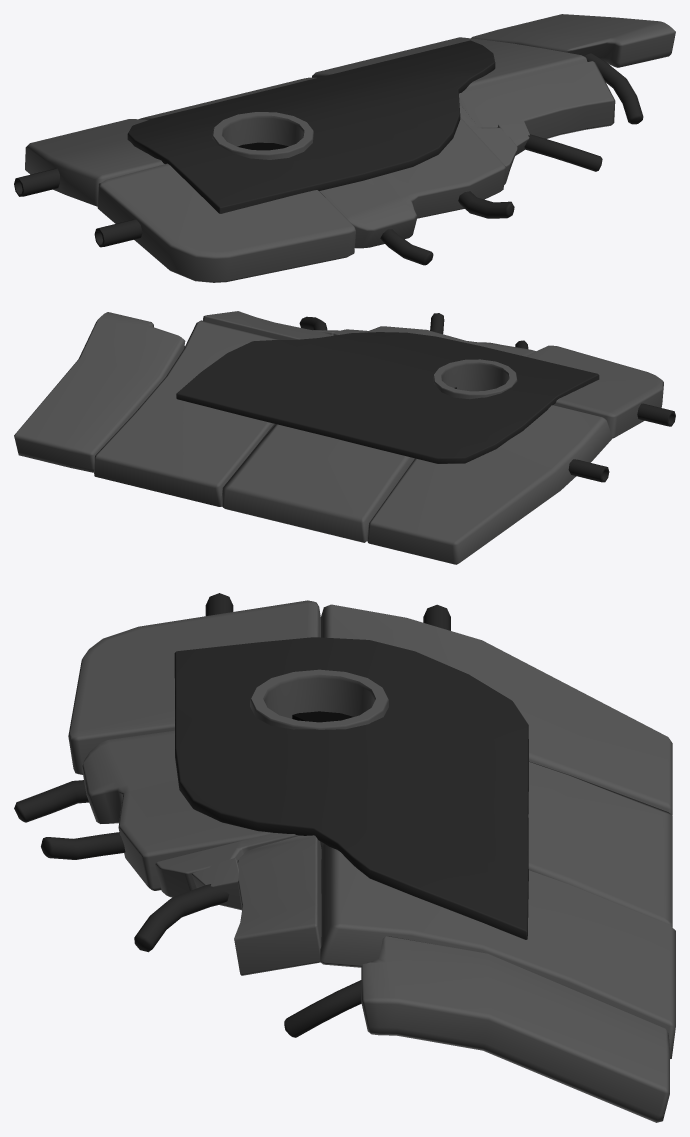
The model's file is _Wreckage_ships.fbx.
3 renders of one model, top to bottom at view 1: azimuth 30°, elevation 25°; view 2: azimuth 150°, elevation 25°; view 3: azimuth 270°, elevation 25°, orthographic. The views are drawn at different scales.
Parts seen in each view (by area): view 1: Wreckage_ships; view 2: Wreckage_ships; view 3: Wreckage_ships.
Part boxes in pixels (left/top/right/bottom): Wreckage_ships: left=14, top=14, right=675, bottom=282; Wreckage_ships: left=14, top=311, right=675, bottom=564; Wreckage_ships: left=14, top=593, right=675, bottom=1122.
Size of the model in its own units: 269 by 43.85 by 181.
1 material, 1 textured.
